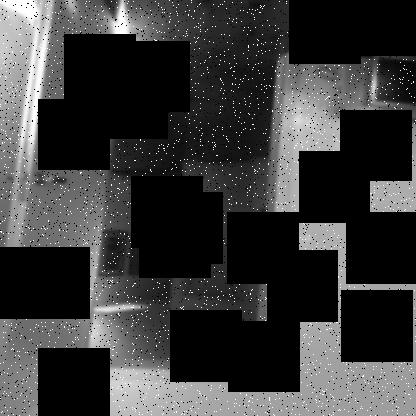Porte: (1, 1, 305, 415)
